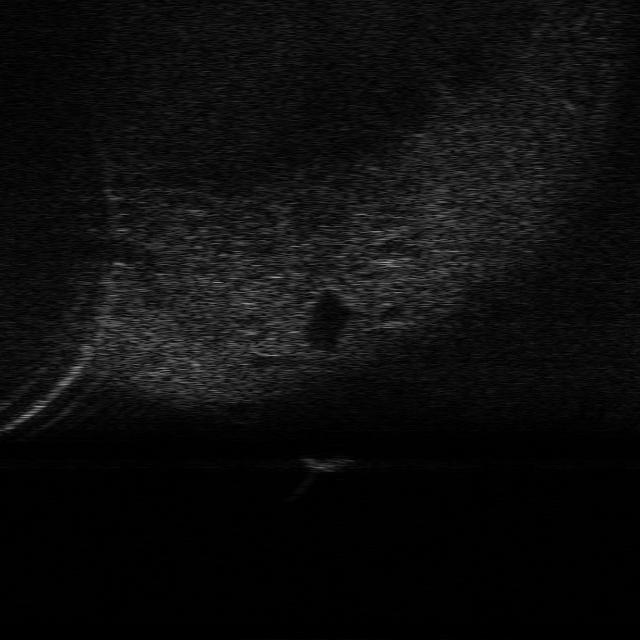cube: (295, 447, 356, 473)
